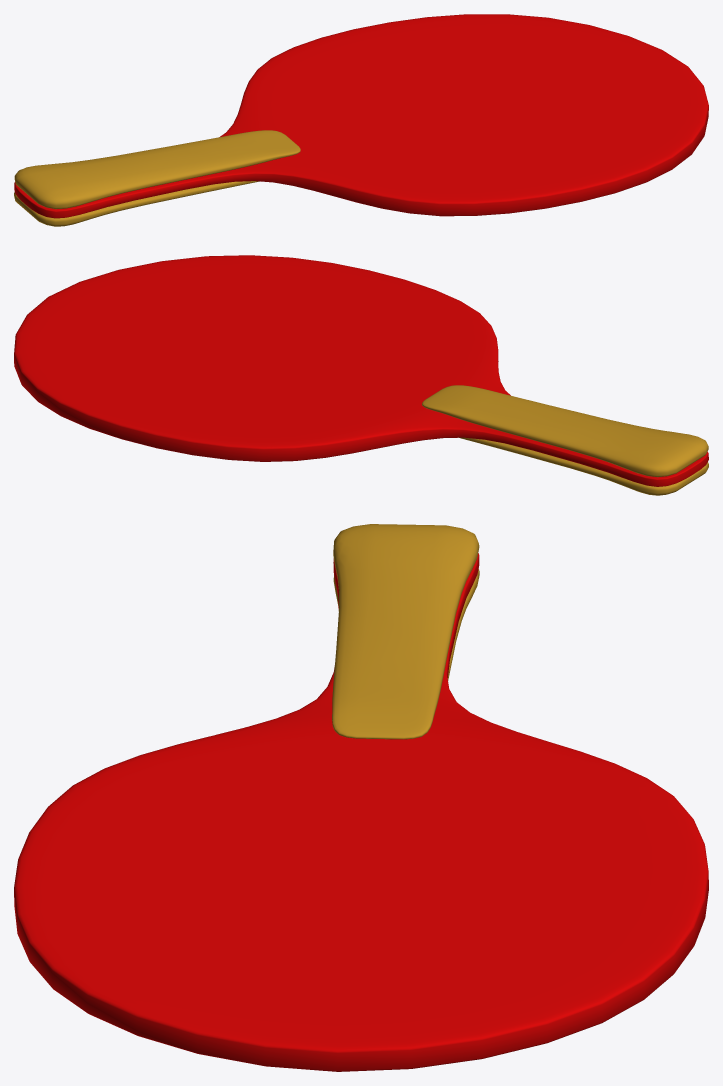
File: PaddleModel.fbx
3 views of the same model, one above another, from view 1: azimuth 30°, elevation 25°; view 2: azimuth 150°, elevation 25°; view 3: azimuth 270°, elevation 25° (orthographic). The views are drawn at different scales.
Visible parts, largest first — view 1: PaddleModel; view 2: PaddleModel; view 3: PaddleModel.
Part boxes in pixels (box(x1,y1,x2,y2)): PaddleModel: box(14, 14, 708, 226); PaddleModel: box(14, 255, 708, 495); PaddleModel: box(14, 524, 708, 1071).
Bounding box in the file's own units: 1120 × 59.73 × 657.
